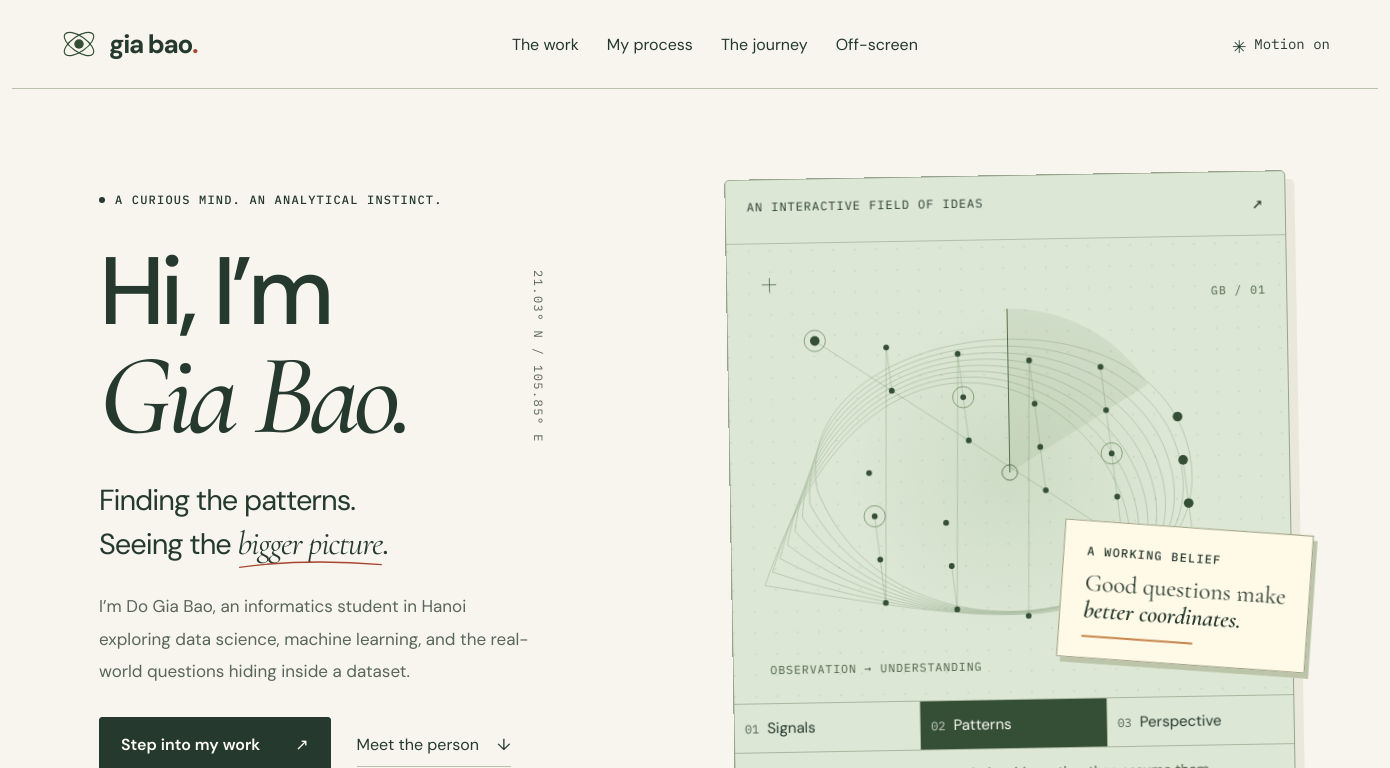
Scenario: Gia Bao Data Atlas › lets a visitor change the conceptual signal layers
The width and height of the screenshot is (1390, 768).
Click the button "01 Signals" at (828, 727), box 734,701 -> 921,753
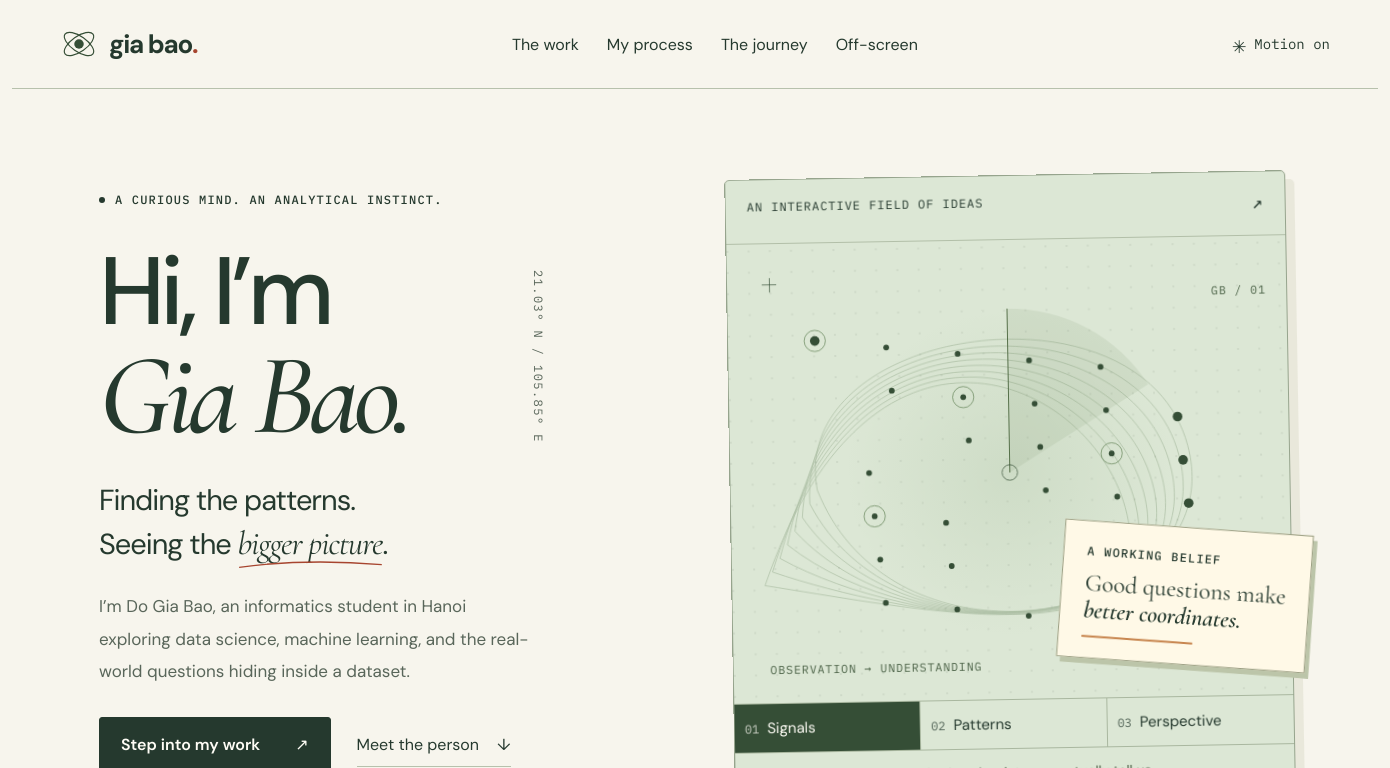
Check: the button "01 Signals" is pressed, box 734,701 -> 921,753
Click the button "03 Perspective" at (1200, 721), box 1107,695 -> 1294,747
(page scrolled)
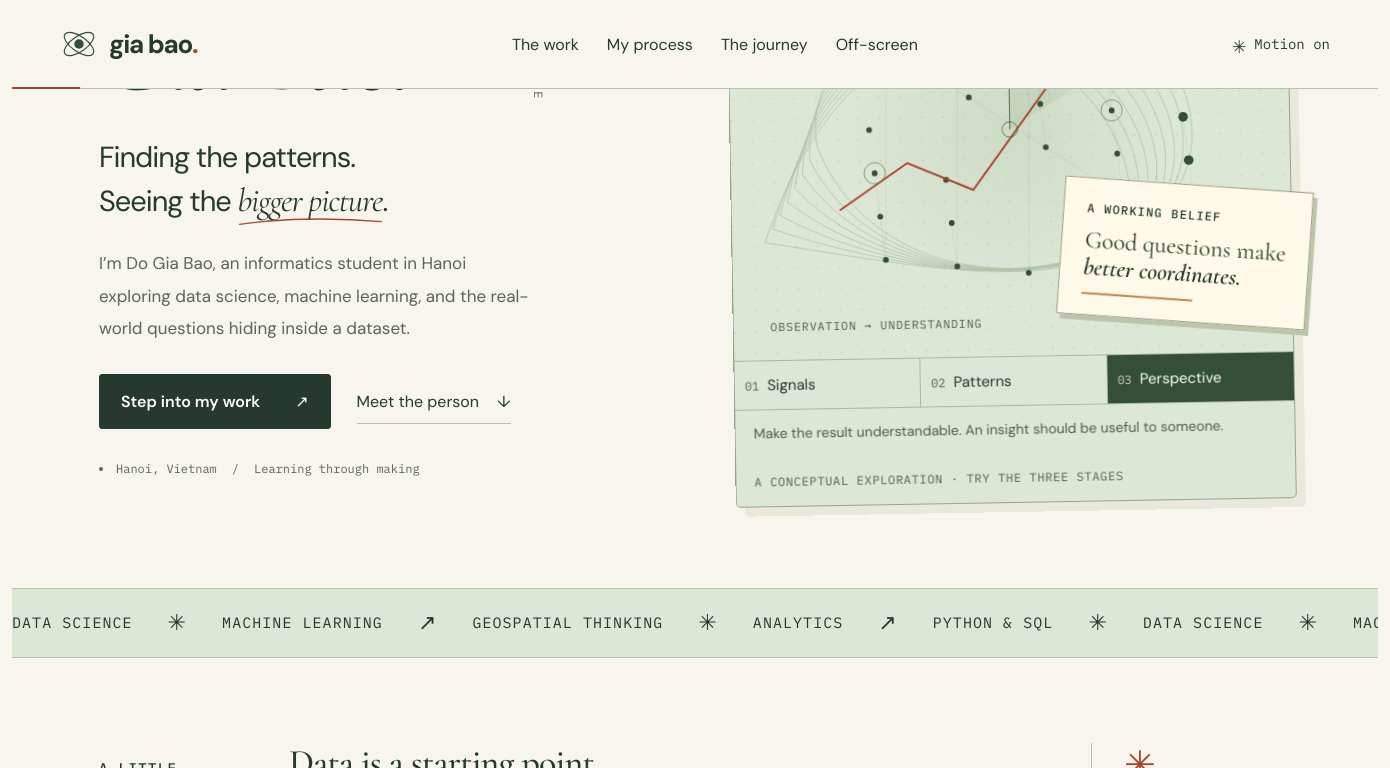
Check: the text "Make the result understandable" is shown, box 754,417 -> 1224,443
